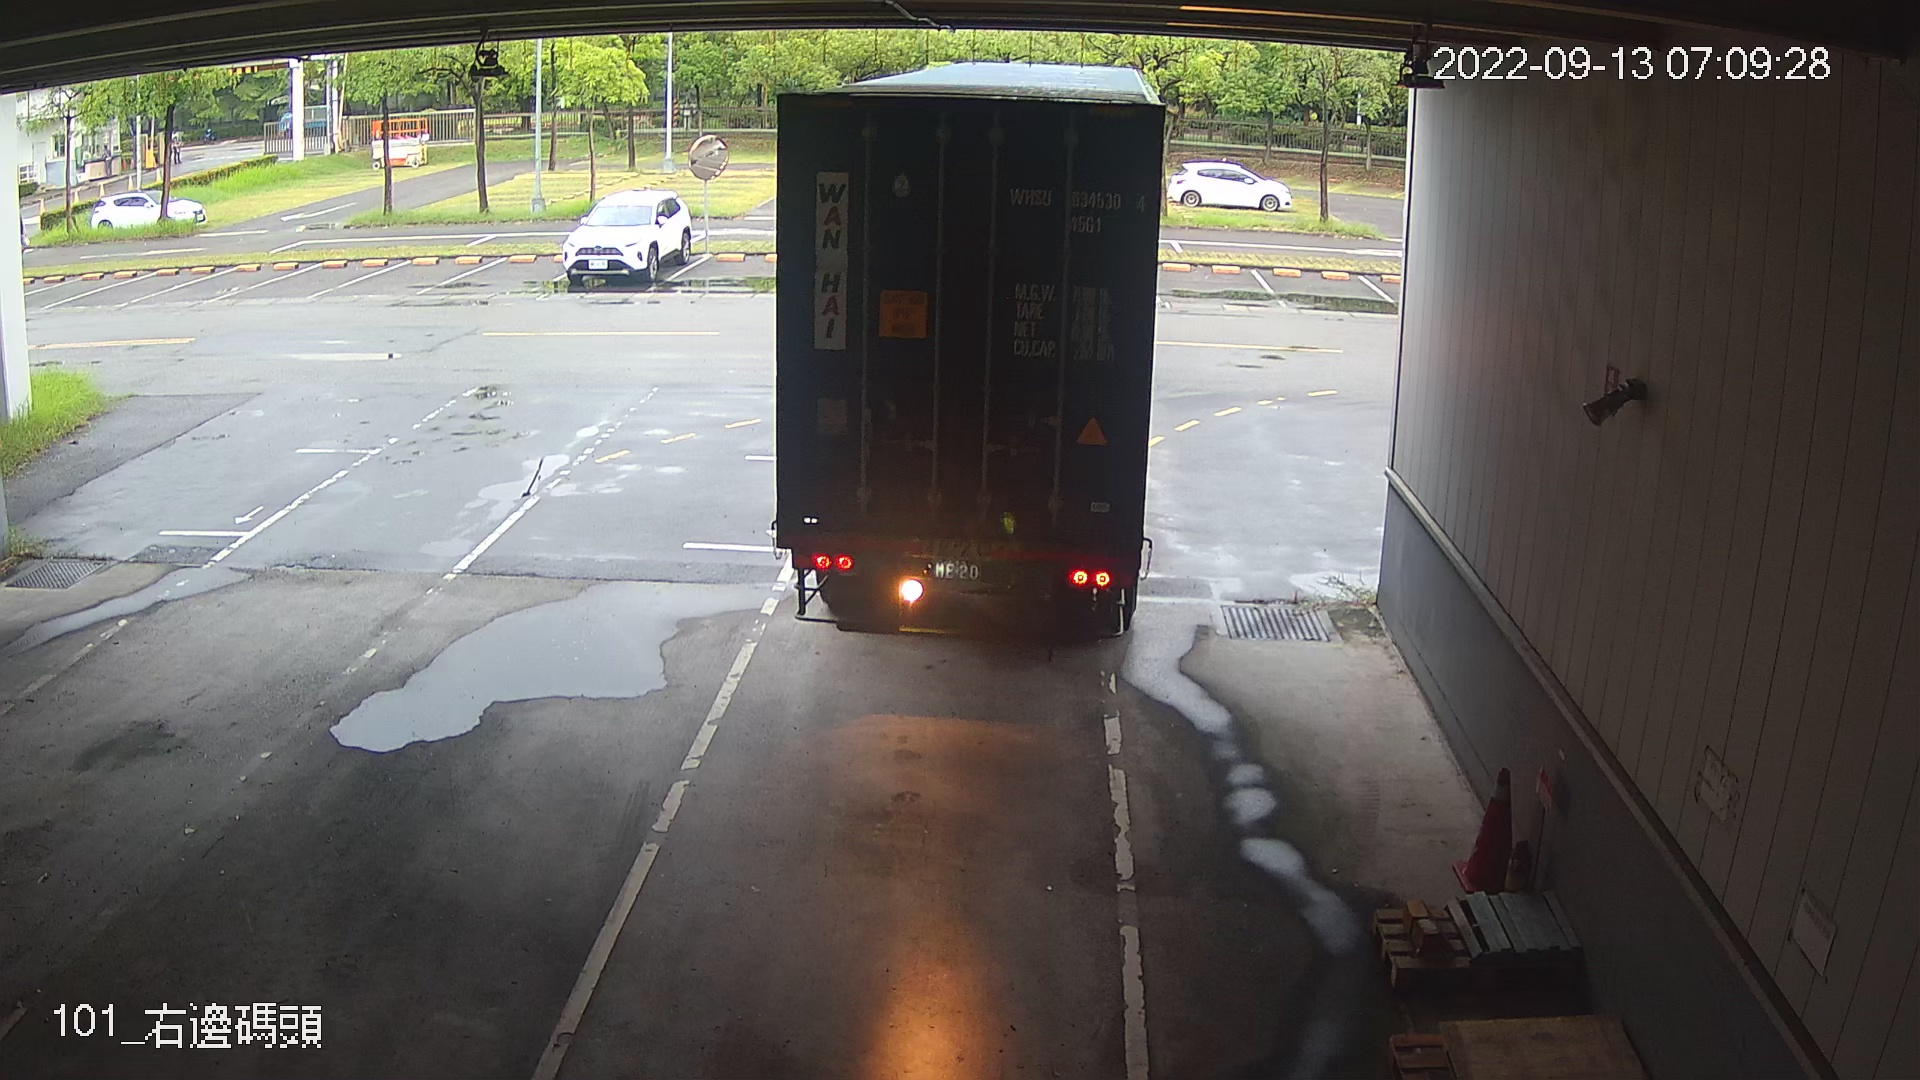container: (1004, 174, 1151, 245)
